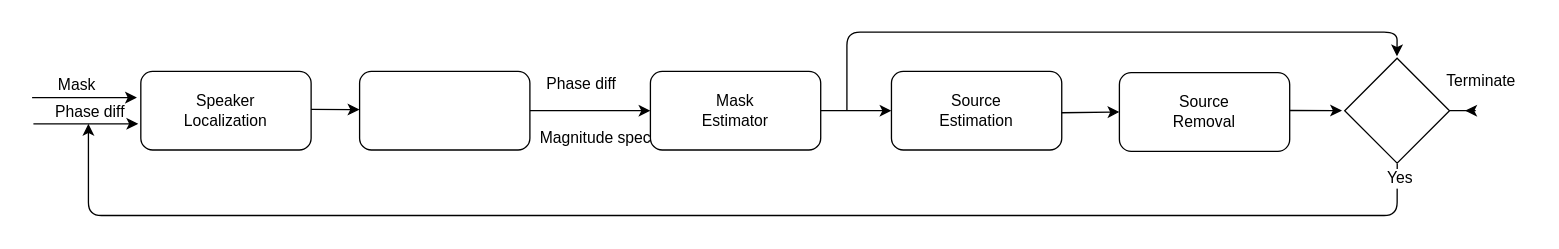
The diagram is 1559 pixels wide and 249 high, and some of its shapes have lost their labels. The box of each missing label's shape, as (x1, y1, x2, y2) in pixels:
DS Beamforming: (358, 70, 530, 150)
More sources?: (1343, 57, 1450, 163)
